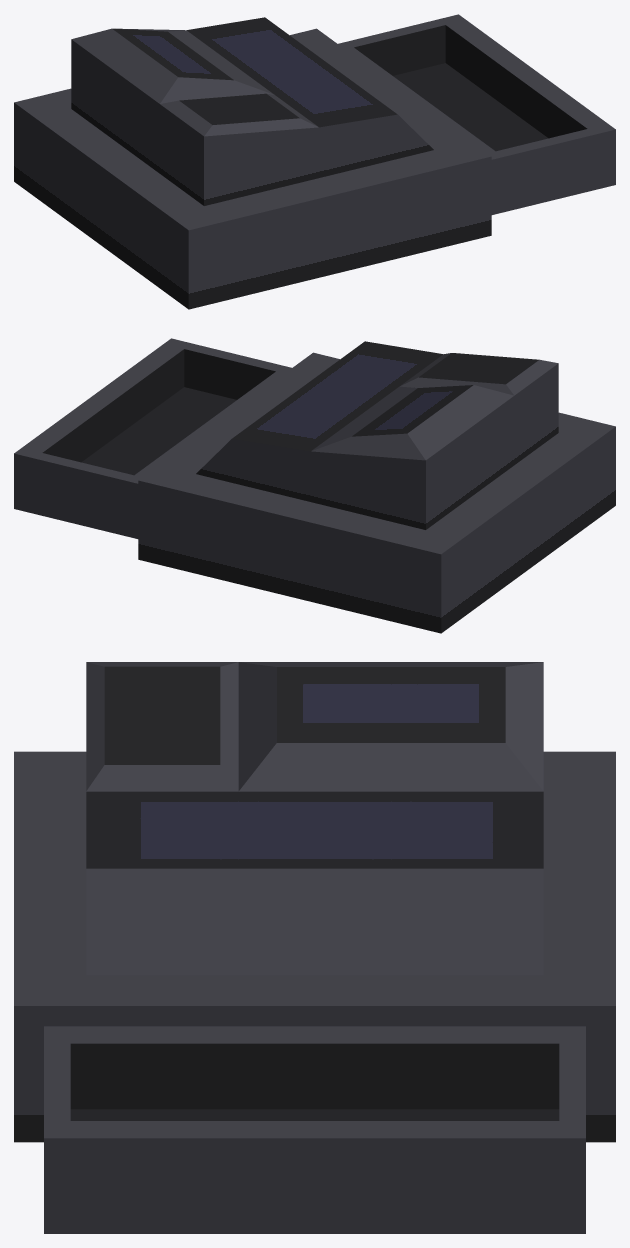
The model's file is cash_Register.fbx.
3 renders of one model, top to bottom at view 1: azimuth 30°, elevation 25°; view 2: azimuth 150°, elevation 25°; view 3: azimuth 270°, elevation 25°, orthographic. The views are drawn at different scales.
Visible parts, largest first — view 1: cuboid; view 2: cuboid; view 3: cuboid.
Boxes of the visible parts, x1,y1,x2,y2 form: cuboid: (14,14,615,309); cuboid: (14,338,615,633); cuboid: (14,662,615,1233).
Bounding box in the file's own units: 45 × 15.83 × 31.25.
Materials: 1 (1 with a texture image).
